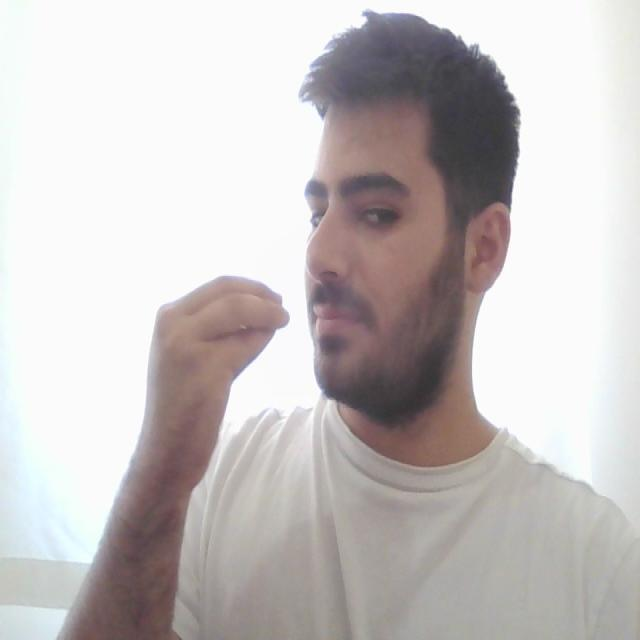Yemek: (151, 273, 367, 357)
